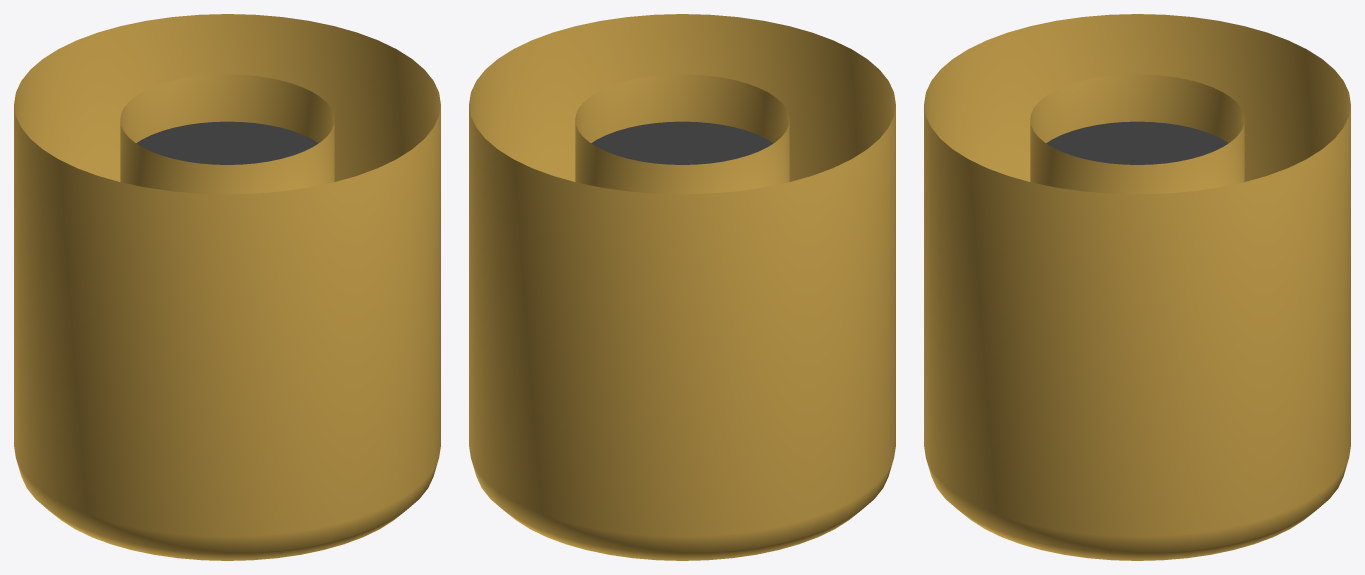
Rendered from Jack.fbx.
3 views of the same model, side by side, from view 1: azimuth 30°, elevation 25°; view 2: azimuth 150°, elevation 25°; view 3: azimuth 270°, elevation 25° (orthographic).
Visible parts, largest first — view 1: Torus, Torus.001; view 2: Torus, Torus.001; view 3: Torus, Torus.001.
Boxes of the visible parts, left/top/right/bottom form: Torus: left=14, top=14, right=440, bottom=560; Torus.001: left=136, top=121, right=318, bottom=164; Torus: left=469, top=14, right=895, bottom=560; Torus.001: left=591, top=121, right=773, bottom=164; Torus: left=924, top=14, right=1350, bottom=560; Torus.001: left=1046, top=121, right=1228, bottom=164.
Bounding box in the file's own units: 350 × 345 × 350.
